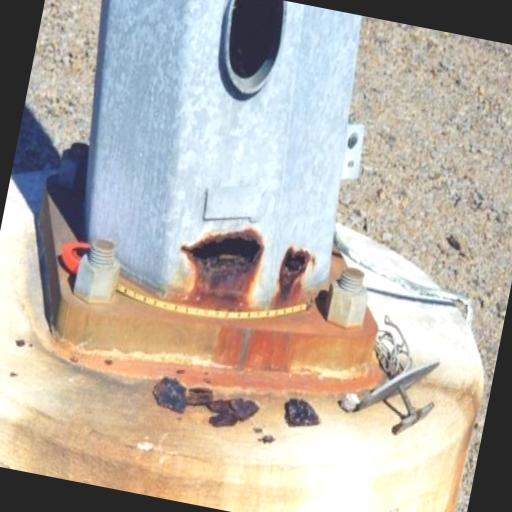corrosion: (0, 196, 205, 410), (214, 291, 392, 410), (172, 218, 265, 316), (274, 243, 316, 311), (283, 397, 322, 430)
